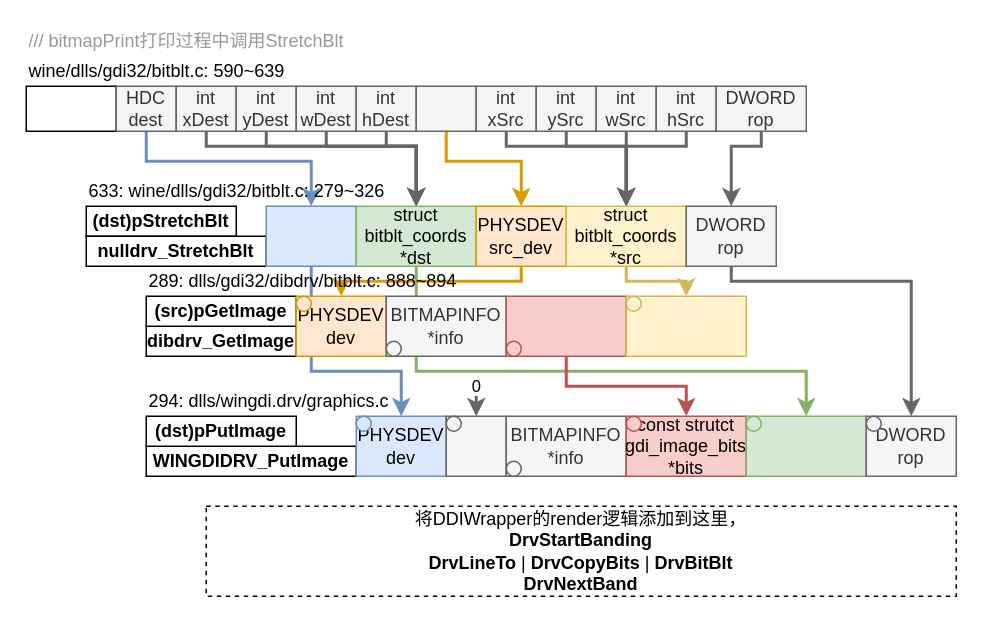
Some shapes in this 983 by 623 pixel diagram are drawn without their labels. Each missing label, with the centre of its shape:
HDC src: the point at 445,108
HRGN clip: the point at 475,445
PHYSDEV dst_dev: the point at 310,235
StretchBlt: the point at 70,108
strutct bitblt_coords *dst: the point at 805,445
strutct bitblt_coords *src: the point at 685,325
strutct gdi_image_bits *bits: the point at 565,325
